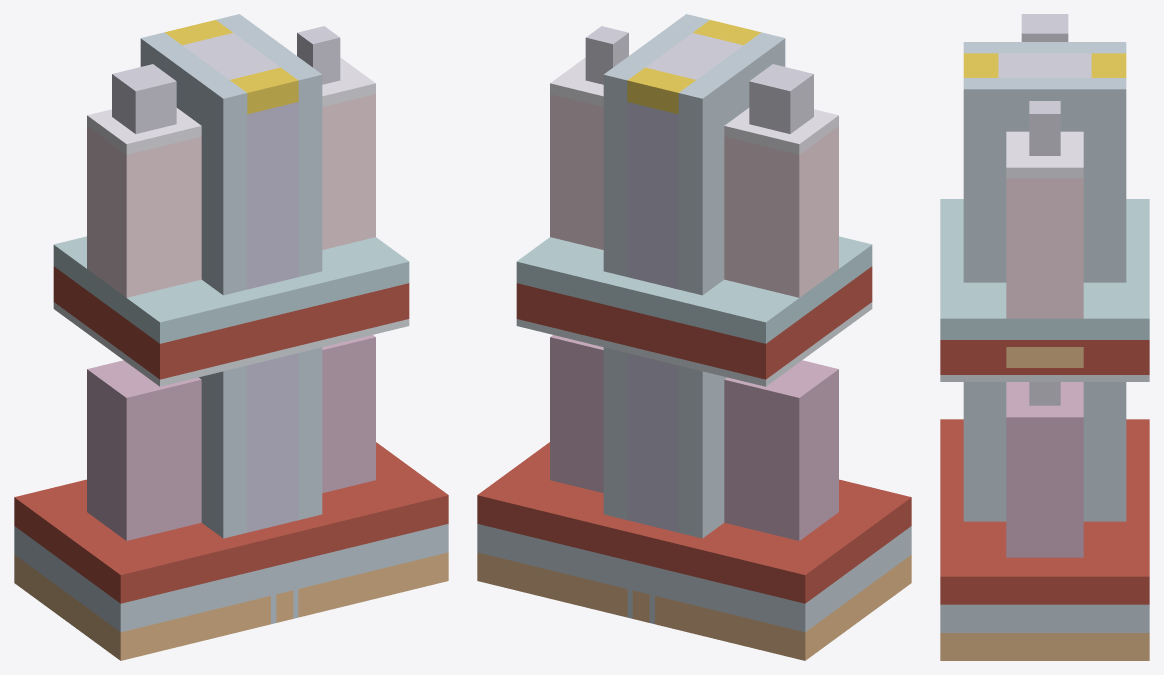
Rendered from cfet_seq.glb.
3 renders of one model, left to right at view 1: azimuth 30°, elevation 25°; view 2: azimuth 150°, elevation 25°; view 3: azimuth 270°, elevation 25°, orthographic.
Parts seen in each view (by area): view 1: sti_l, epi_p_source, epi_n_source, bsdiel, spacer_source, diel64, bond_u, mo, mo_p, epi_p_drain, epi_n_drain, spacer_p_source (+12 smaller); view 2: sti_l, epi_p_source, epi_n_source, bsdiel, spacer_source, diel64, bond_u, mo, mo_p, epi_p_drain, epi_n_drain, spacer_p_source (+12 smaller); view 3: spacer_drain, sti_l, epi_p_drain, spacer_p_drain, bond_u, epi_n_drain, bsdiel, bsline_d, diel64, nisi_drain, gatew, bond_l (+7 smaller).
Part boxes in pixels (x1,y1,x2,y2): sti_l: (14, 442, 448, 603); epi_p_source: (87, 360, 201, 540); epi_n_source: (87, 126, 201, 297); bsdiel: (14, 524, 448, 632); spacer_source: (140, 32, 247, 295); diel64: (53, 266, 409, 379); bond_u: (53, 236, 409, 332); mo: (247, 102, 298, 289); mo_p: (247, 353, 298, 532); epi_p_drain: (322, 335, 375, 492); epi_n_drain: (322, 94, 375, 249); spacer_p_source: (199, 365, 247, 538); sti_l: (477, 442, 911, 603); epi_p_source: (724, 360, 838, 540); epi_n_source: (724, 126, 838, 297); bsdiel: (477, 524, 911, 632); spacer_source: (678, 32, 785, 295); diel64: (516, 266, 872, 379); bond_u: (516, 236, 872, 332); mo: (627, 102, 678, 289); mo_p: (627, 353, 678, 532); epi_p_drain: (550, 335, 603, 492); epi_n_drain: (550, 94, 603, 249); spacer_p_source: (678, 365, 726, 538); spacer_drain: (963, 78, 1126, 282); sti_l: (940, 419, 1149, 604); epi_p_drain: (1006, 382, 1083, 557); spacer_p_drain: (963, 382, 1126, 521); bond_u: (940, 199, 1149, 329); epi_n_drain: (1006, 178, 1083, 318); bsdiel: (940, 604, 1149, 632); bsline_d: (940, 633, 1149, 660); diel64: (940, 340, 1149, 374); nisi_drain: (1006, 131, 1083, 178); gatew: (998, 53, 1091, 77); bond_l: (940, 329, 1149, 339).
Size of the model in its own units: 96 by 147 by 54.
